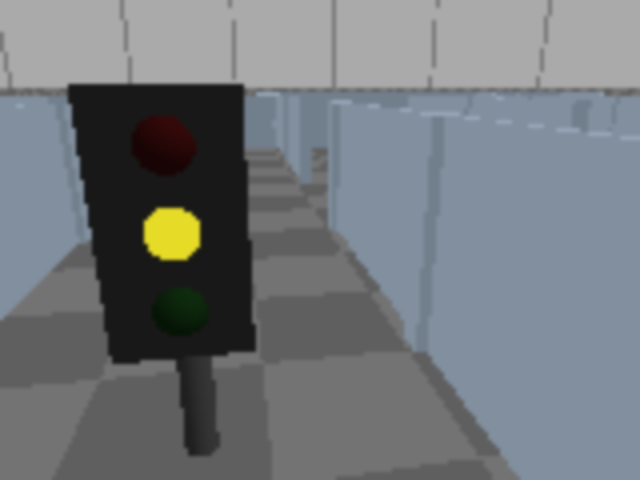traffic_light: (63, 58, 262, 478)
